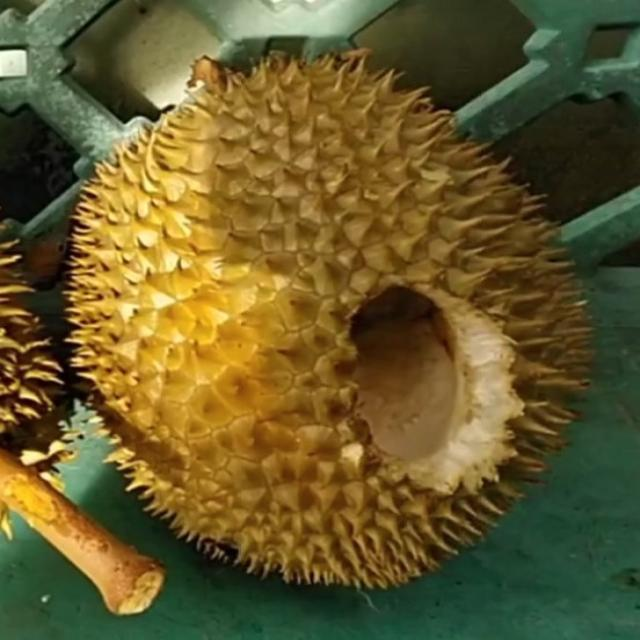defective: (58, 57, 594, 601)
